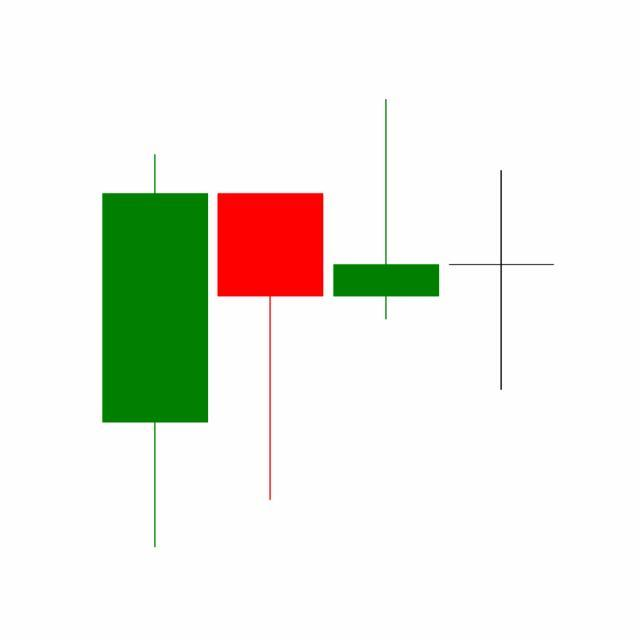Spinning Top: (444, 168, 560, 394)
